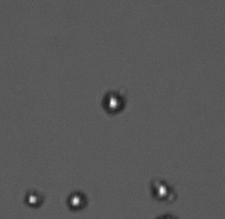Living Cell: (103, 90, 124, 114), (151, 181, 169, 200), (67, 192, 85, 209), (25, 191, 41, 206)
